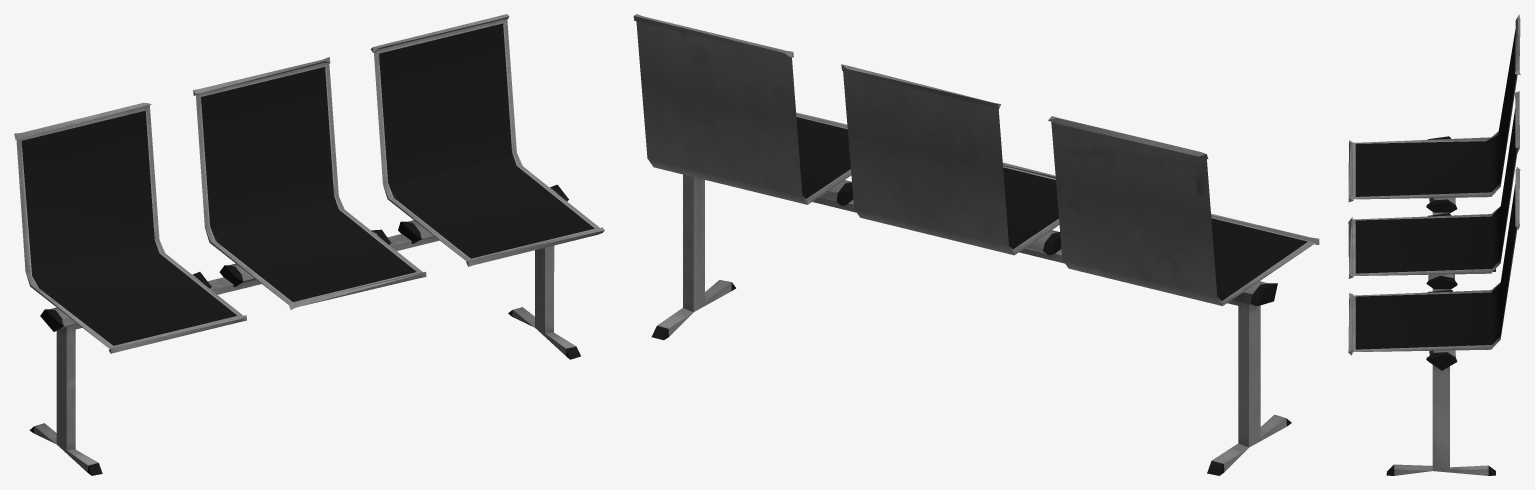
Rendered from bench.glb.
The picture shows the model from 3 angles, left to right: view 1: azimuth 30°, elevation 25°; view 2: azimuth 150°, elevation 25°; view 3: azimuth 270°, elevation 25°; orthographic projection. The views are drawn at different scales.
Parts seen in each view (by area): view 1: Bench; view 2: Bench; view 3: Bench.
Boxes of the visible parts, x1,y1,x2,y2 form: Bench: (14, 14, 604, 475); Bench: (633, 14, 1319, 475); Bench: (1348, 14, 1520, 475).
Size of the model in its own units: 2.36 by 1.27 by 0.7875.
Materials: 1 (1 with a texture image).
